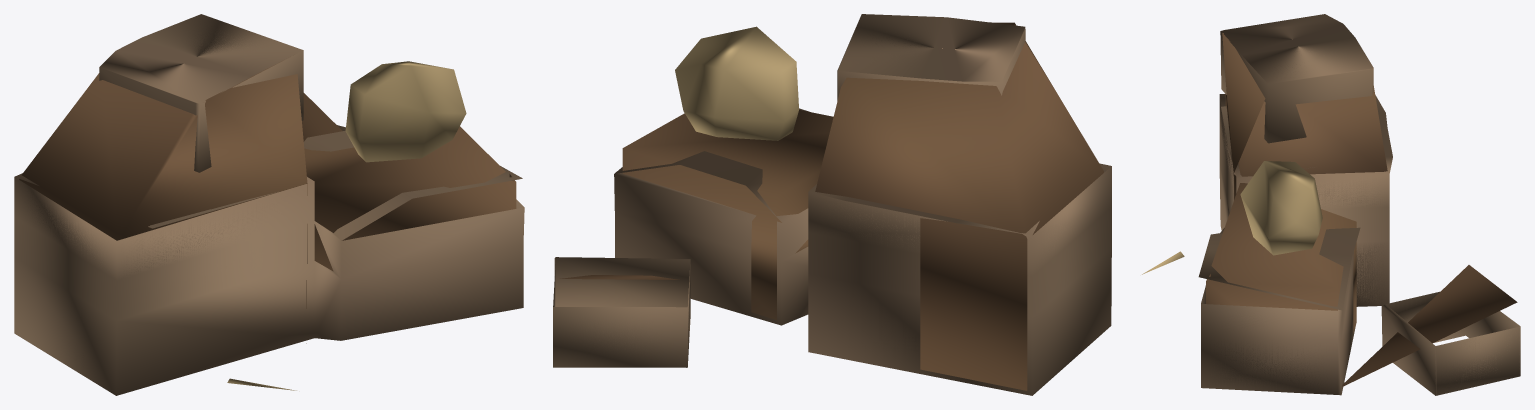
Rendered from build_crates_t1.glb.
3 views of the same model, side by side, from view 1: azimuth 30°, elevation 25°; view 2: azimuth 150°, elevation 25°; view 3: azimuth 270°, elevation 25° (orthographic). The views are drawn at different scales.
Visible parts, largest first — view 1: wood, wood_dark, rope; view 2: wood, wood_dark, rope; view 3: wood, wood_dark, rope.
Boxes of the visible parts, x1,y1,x2,y2 form: wood: [14, 14, 524, 395]; wood_dark: [19, 55, 516, 343]; rope: [227, 61, 466, 390]; wood: [553, 14, 1111, 395]; wood_dark: [560, 22, 1103, 390]; rope: [675, 26, 798, 140]; wood: [1198, 14, 1520, 395]; wood_dark: [1206, 33, 1517, 386]; rope: [1142, 161, 1322, 274].
Size of the model in its own units: 1.62 by 1.01 by 1.48.
